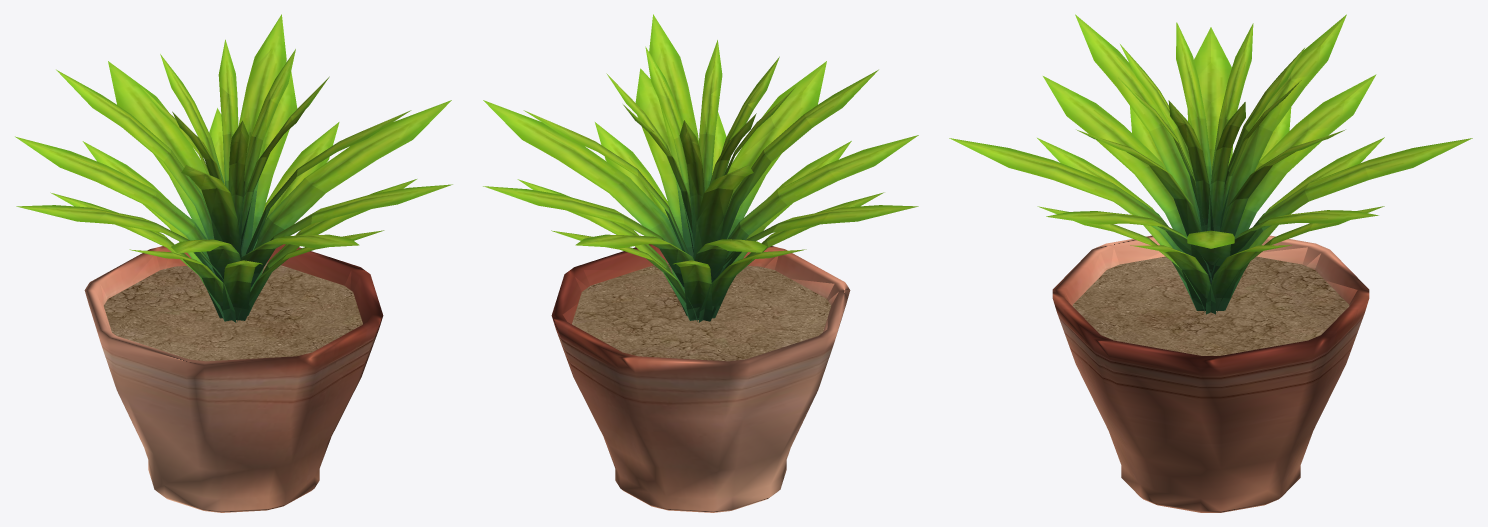
Rendered from little-plant.glb.
3 renders of one model, left to right at view 1: azimuth 30°, elevation 25°; view 2: azimuth 150°, elevation 25°; view 3: azimuth 270°, elevation 25°, orthographic. The views are drawn at different scales.
Parts seen in each view (by area): view 1: little-plant; view 2: little-plant; view 3: little-plant.
Boxes of the visible parts, box(x1,y1,x2,y2) form: little-plant: box(15, 14, 452, 512); little-plant: box(483, 14, 918, 512); little-plant: box(949, 14, 1472, 512).
Bounding box in the file's own units: 1 × 0.8722 × 1.
Materials: 3 (3 with a texture image).
